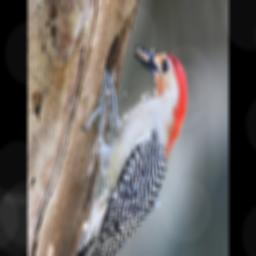Woodpecker: (46, 46, 187, 256)
